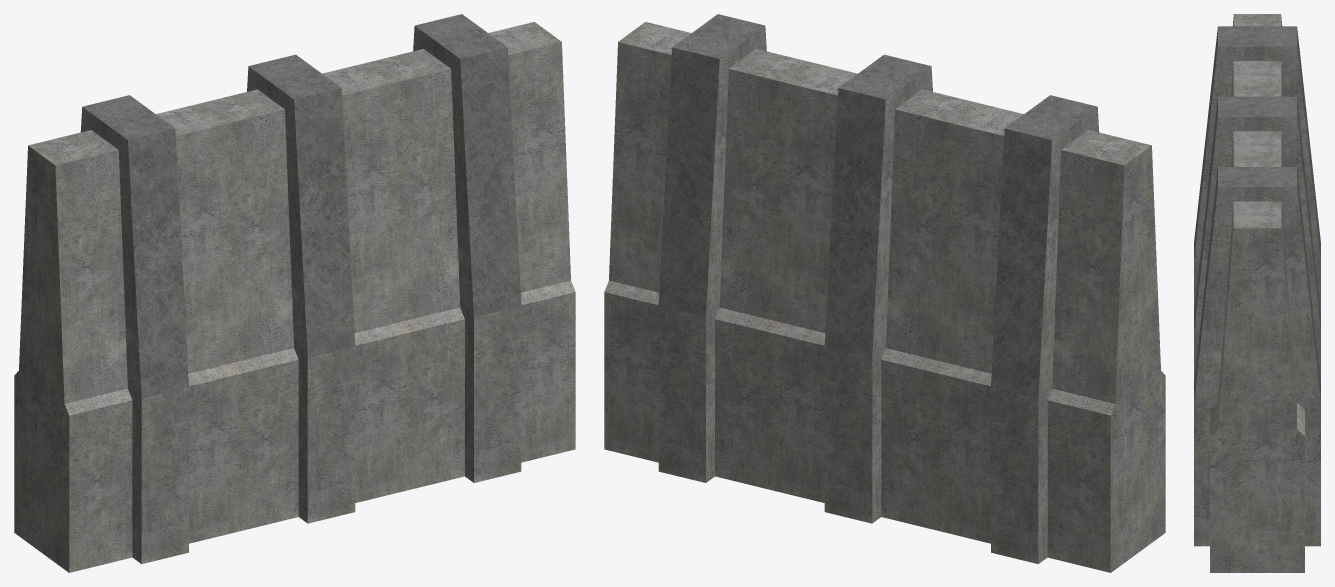
The model's file is mun_all_military_wall_med_impl_s01_l0.fbx.
3 renders of one model, left to right at view 1: azimuth 30°, elevation 25°; view 2: azimuth 150°, elevation 25°; view 3: azimuth 270°, elevation 25°, orthographic. The views are drawn at different scales.
Visible parts, largest first — view 1: mesh_node; view 2: mesh_node; view 3: mesh_node.
Part boxes in pixels (x1,y1,x2,y2): mesh_node: (14,14,575,572); mesh_node: (604,14,1165,572); mesh_node: (1194,14,1320,572).
Bounding box in the file's own units: 8 × 6.25 × 2.
